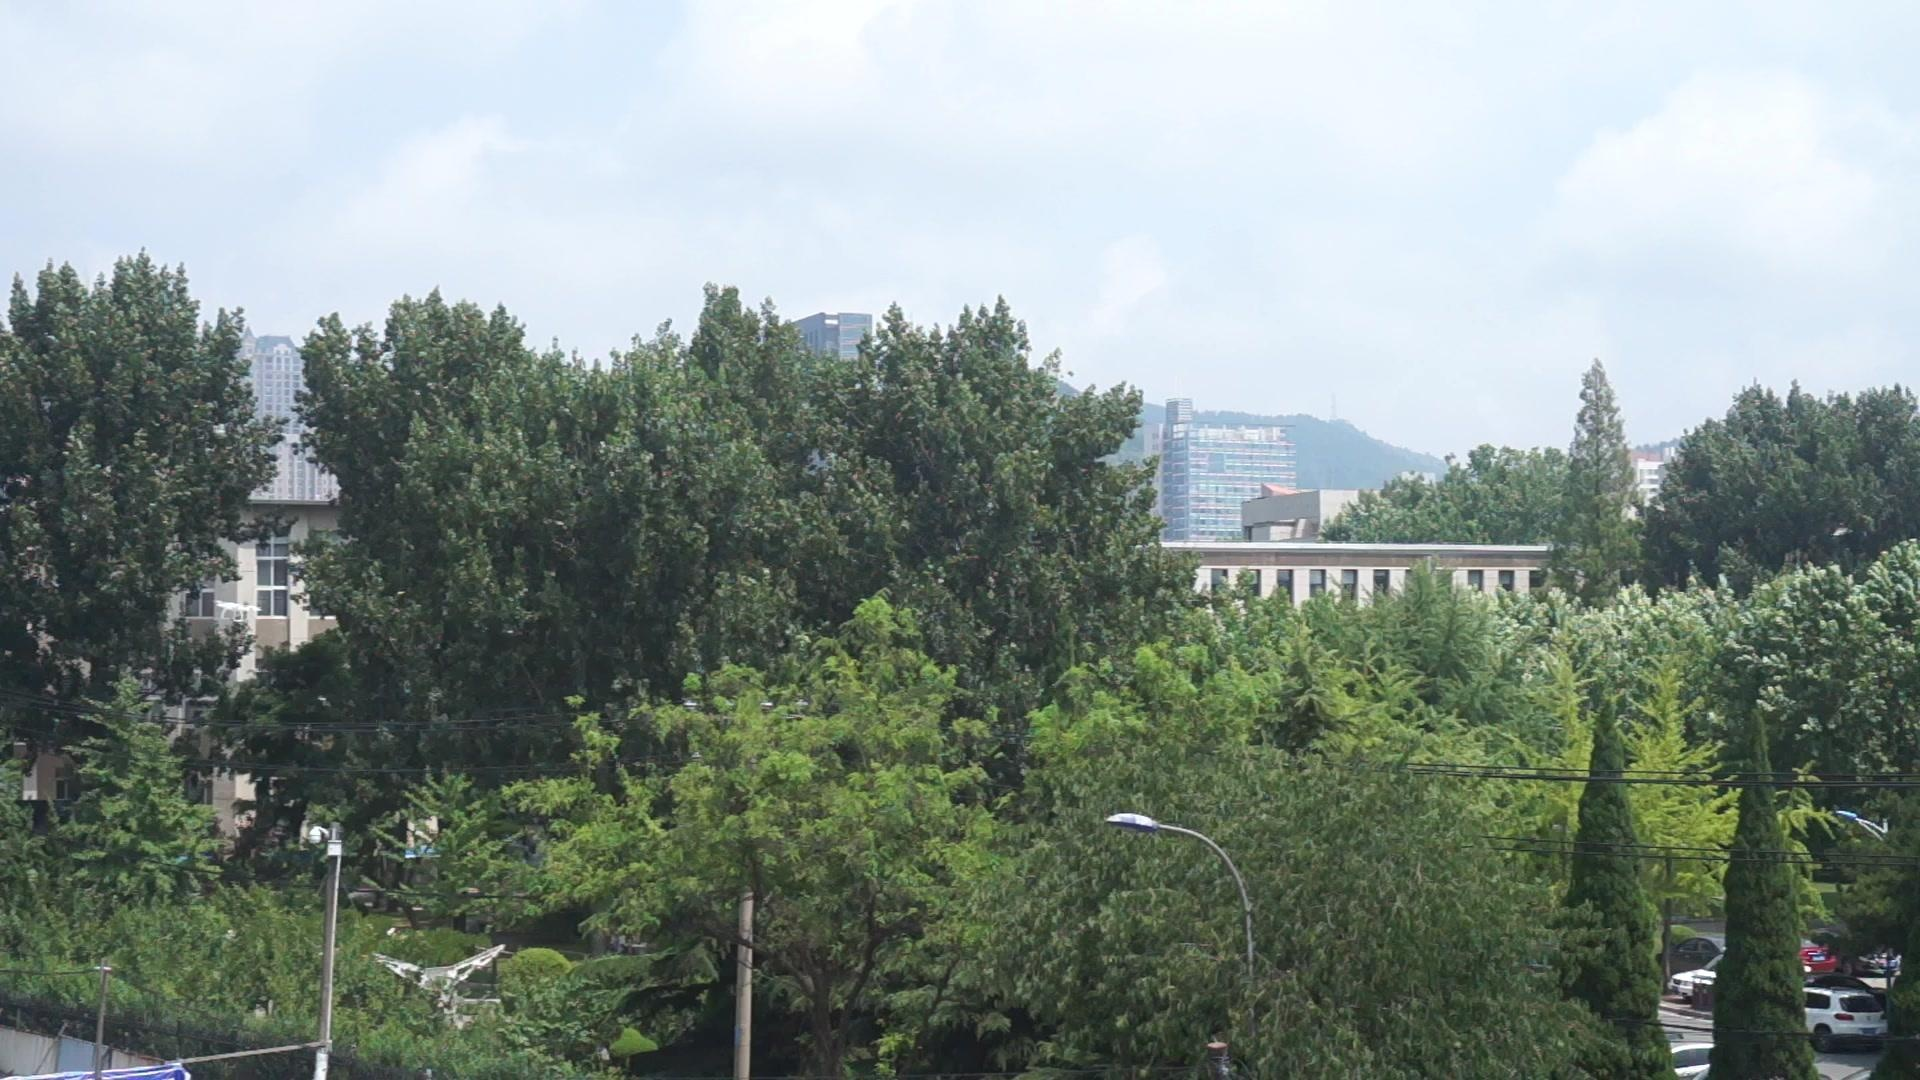UAV: (215, 601, 262, 622)
